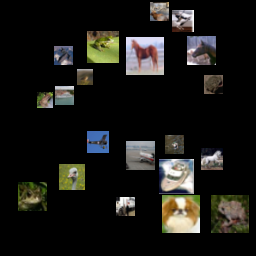airplane: (62, 95, 94, 127), (65, 194, 97, 226), (111, 207, 140, 236), (157, 23, 183, 49), (60, 23, 86, 49), (123, 78, 145, 100)
bird: (147, 62, 185, 100), (44, 50, 76, 82)
cat: (131, 105, 169, 143), (215, 98, 237, 120)
deer: (64, 141, 93, 170), (32, 199, 48, 215)
dog: (189, 212, 227, 250), (200, 71, 226, 97)
ship: (93, 35, 115, 57)
